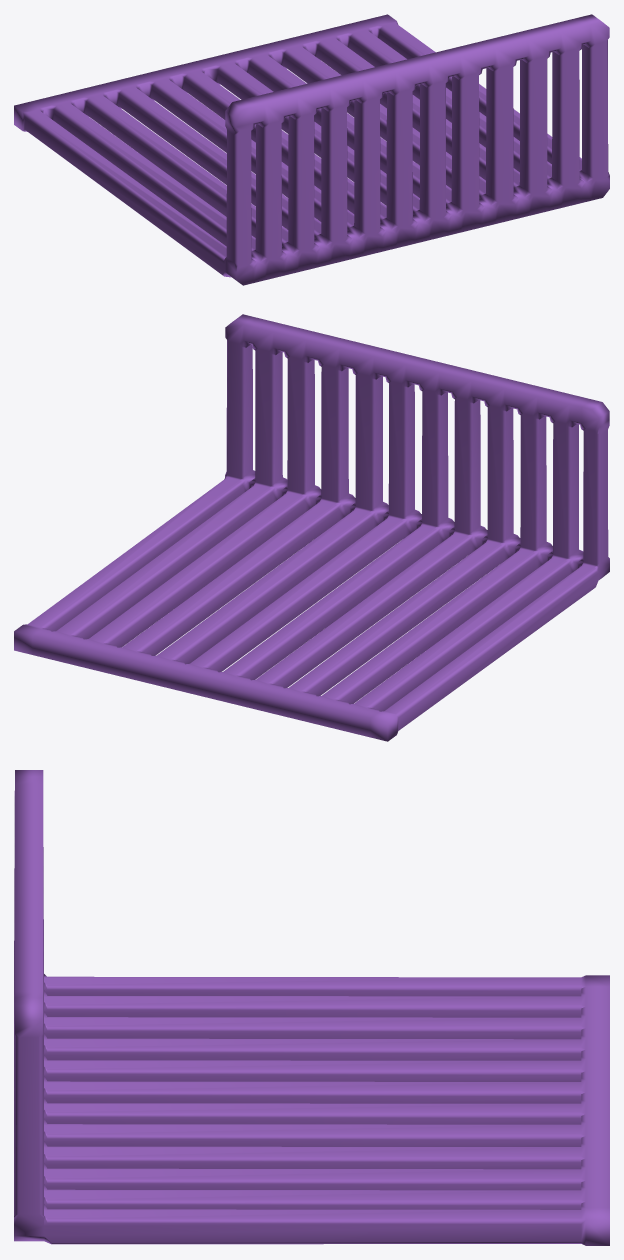
File: fire.fbx
3 renders of one model, top to bottom at view 1: azimuth 30°, elevation 25°; view 2: azimuth 150°, elevation 25°; view 3: azimuth 270°, elevation 25°, orthographic. The views are drawn at different scales.
Parts seen in each view (by area): view 1: polySurface3; view 2: polySurface3; view 3: polySurface3.
Boxes of the visible parts, x1,y1,x2,y2 form: polySurface3: (14, 14, 609, 285); polySurface3: (14, 314, 609, 741); polySurface3: (14, 770, 609, 1245).
Size of the model in its own units: 10.21 by 4.58 by 10.51.
